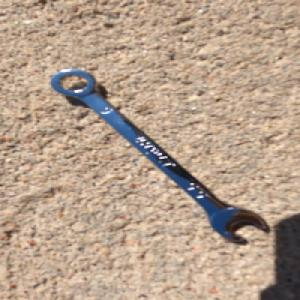Wrench: (48, 67, 269, 244)
